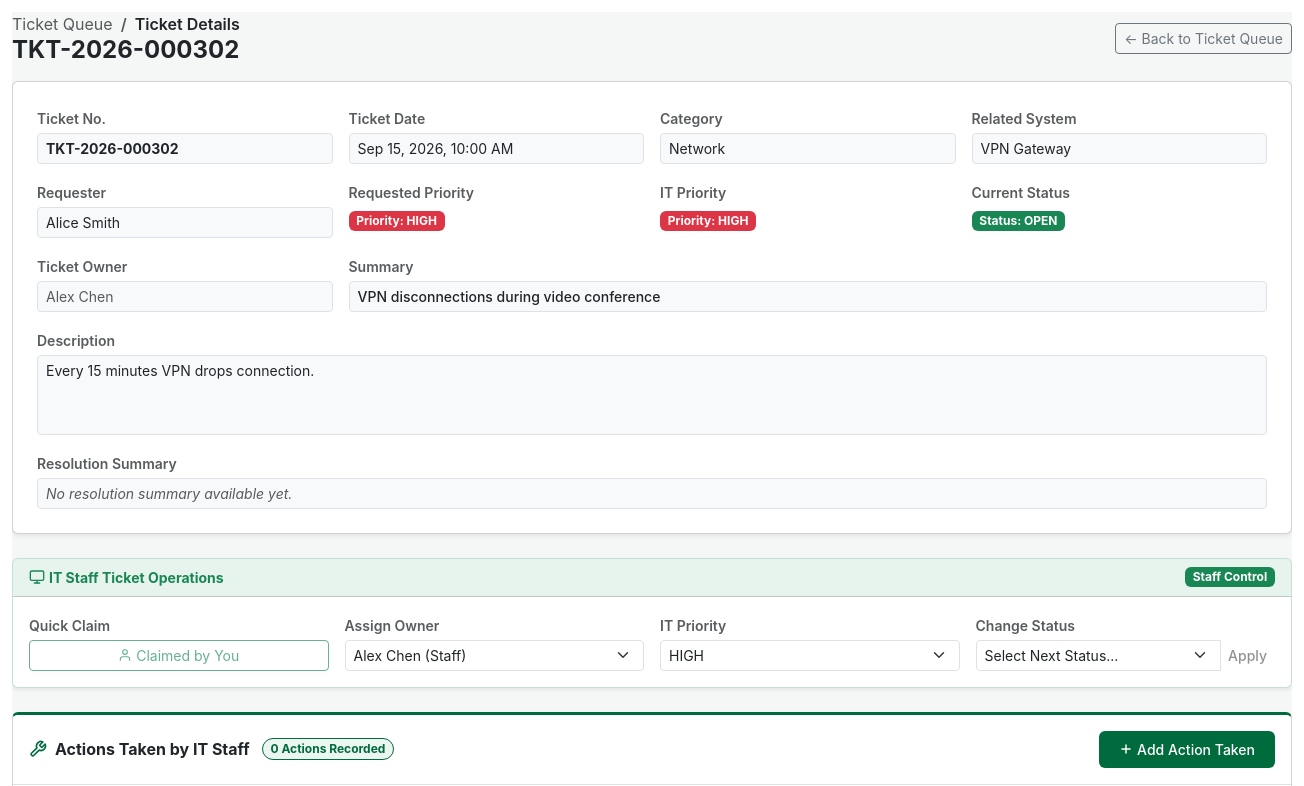
Test case: IT Staff Ticket Operations & Status Matrix (Issue 24 / FR-11 & FR-13) › IT Priority Selector › allows updating IT Priority
Select "URGENT" in the dropdown with test id "it-priority-selector" at (810, 655), box [660,640,960,671]
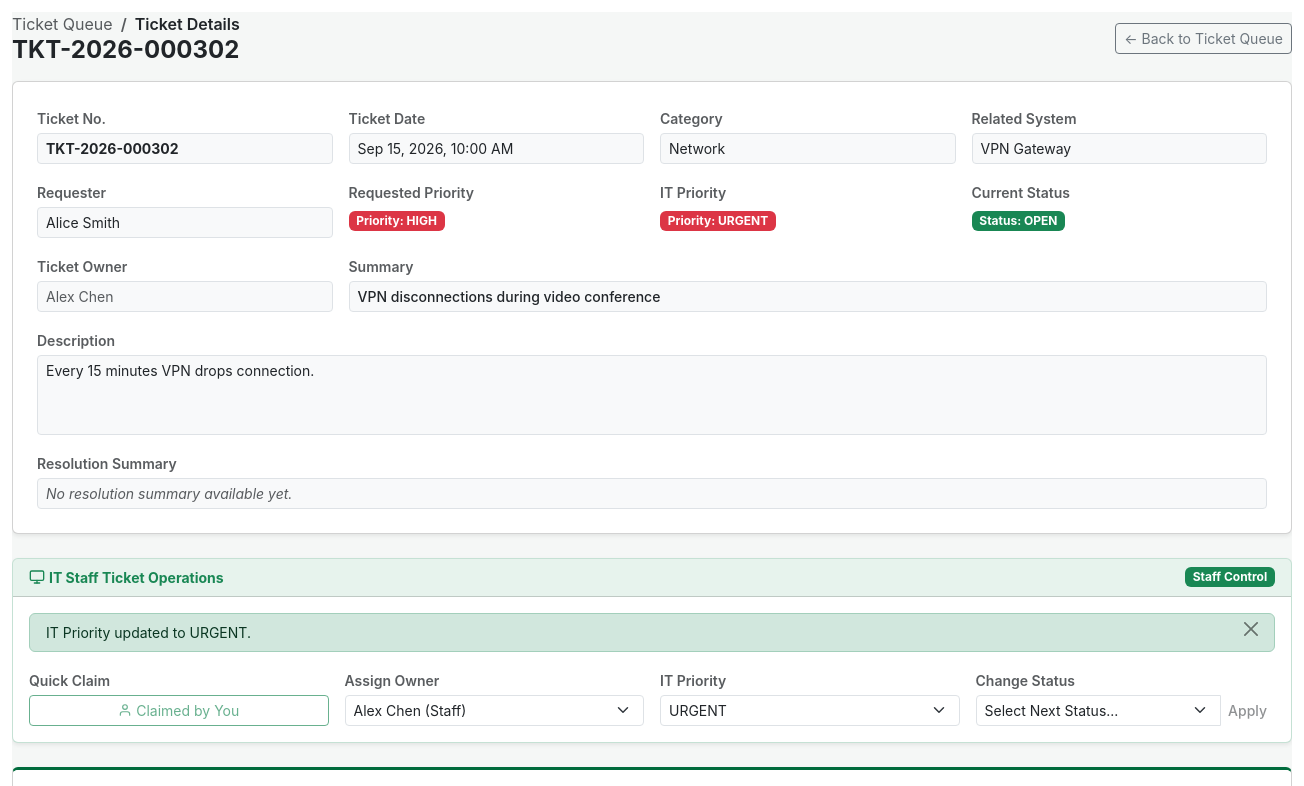
Now the message with test id "operation-feedback" reads "IT Priority updated to URGENT.", box [46,624,251,641]
Now the text with test id "detail-it-priority-badge" reads "Priority: URGENT", box [660,211,776,231]
